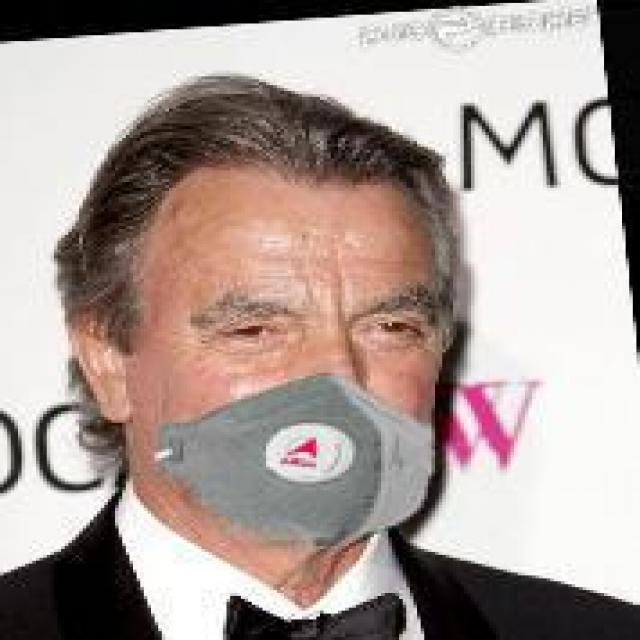mask: (47, 94, 482, 561)
